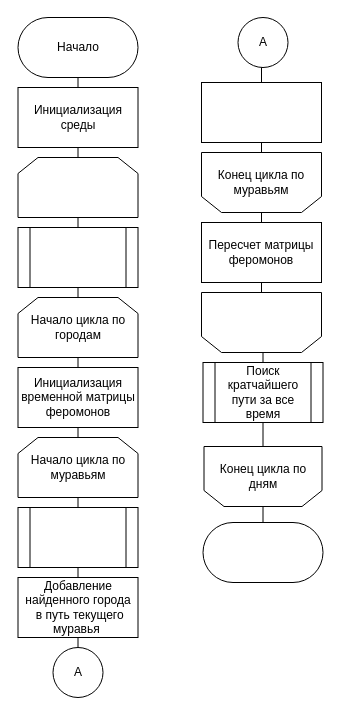
Image size: 340x715. Some labels were removed from this diagram. The shapes that lost their labels are listed below. From the top down, each one's centre as x and y in pixels, then its label:
(x=261, y=112): Обновить временную матрицу феромонов
(x=77, y=187): Начало цикла по дням
(x=77, y=257): Инициализация муравьев
(x=261, y=322): Конец цикла по городам
(x=77, y=537): Выбор следующего города муравья
(x=262, y=552): Конец
